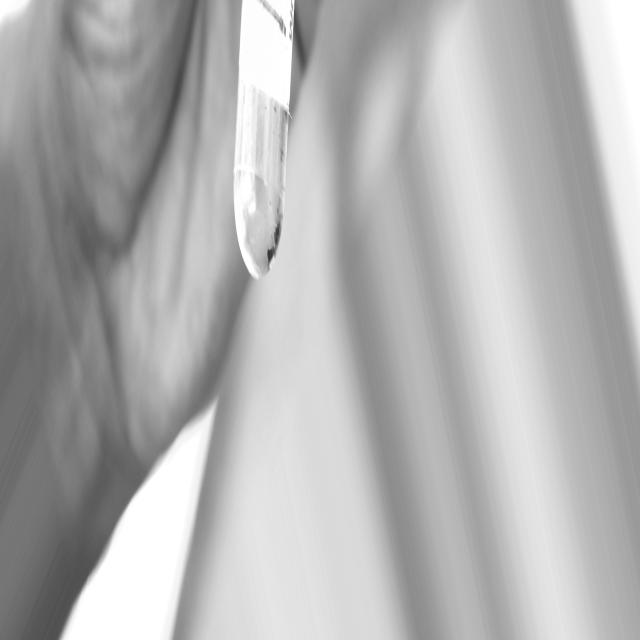larvas: (260, 1, 287, 36)
